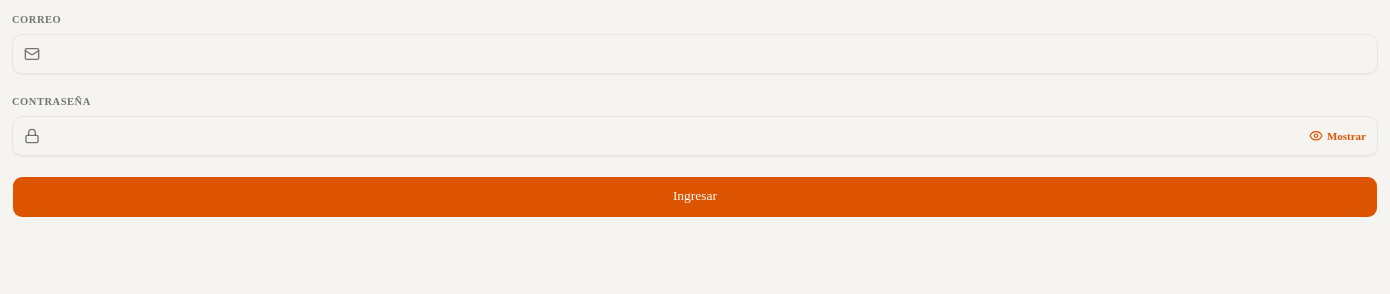
Test case: LoginForm › shows one uniform error when signIn fails, without saying which field was wrong
Type "admin@taller-perez.test" into the field labelled "Correo" at (695, 54), box [12,34,1378,74]
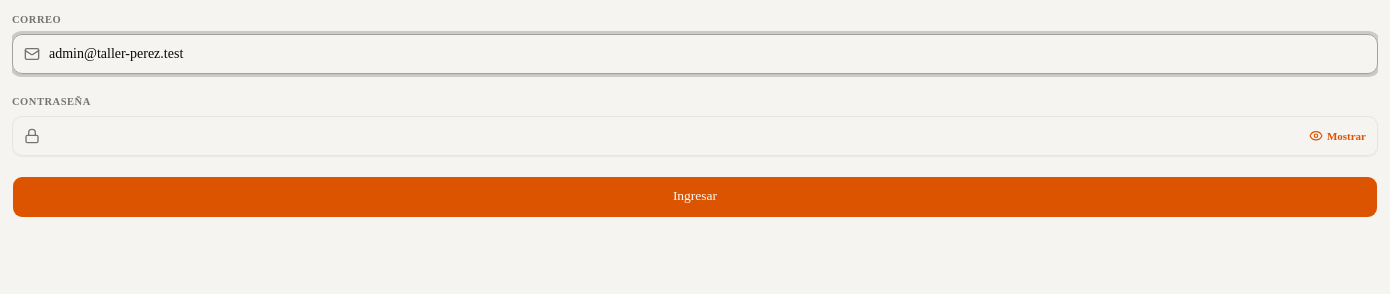
Type "wrong" into the password field labelled "Contraseña" at (695, 136), box [12,116,1378,156]
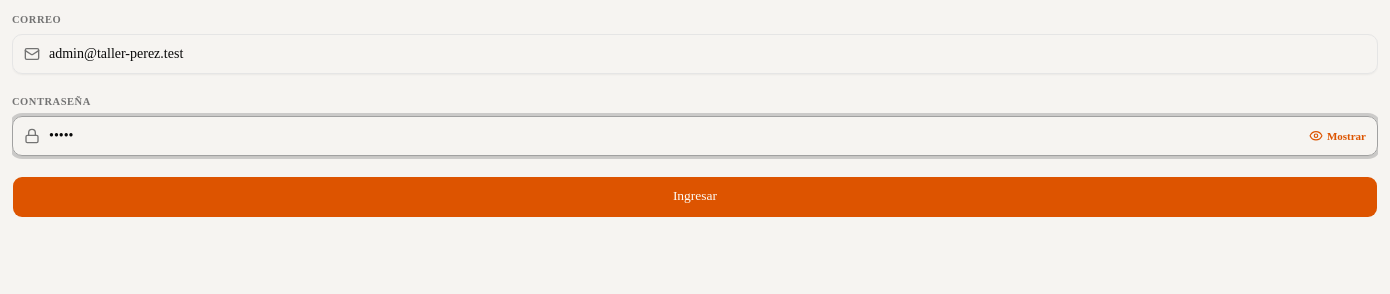
Click the button "Ingresar" at (695, 196), box [12,176,1378,218]
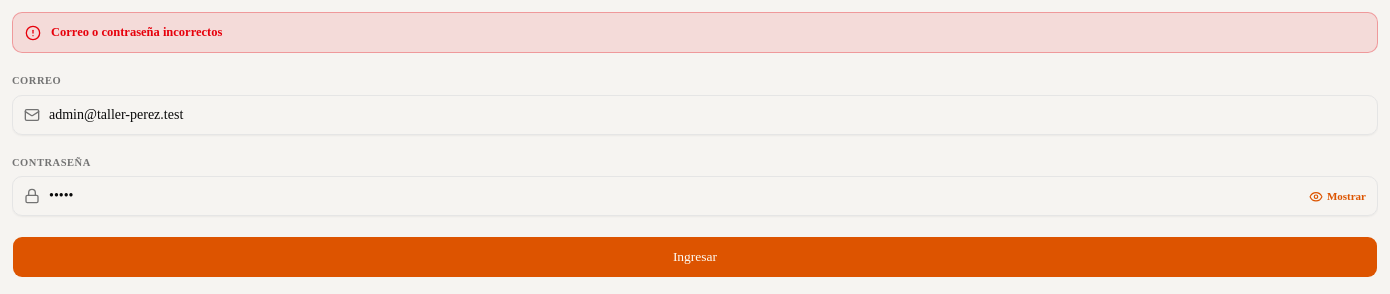
Expected: the message reads "Correo o contraseña incorrectos", [51,25,222,39]
